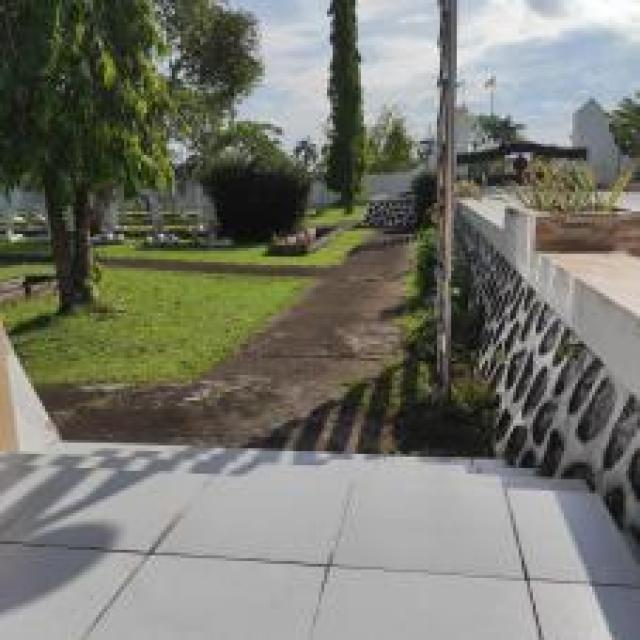downstair: (12, 390, 624, 568)
